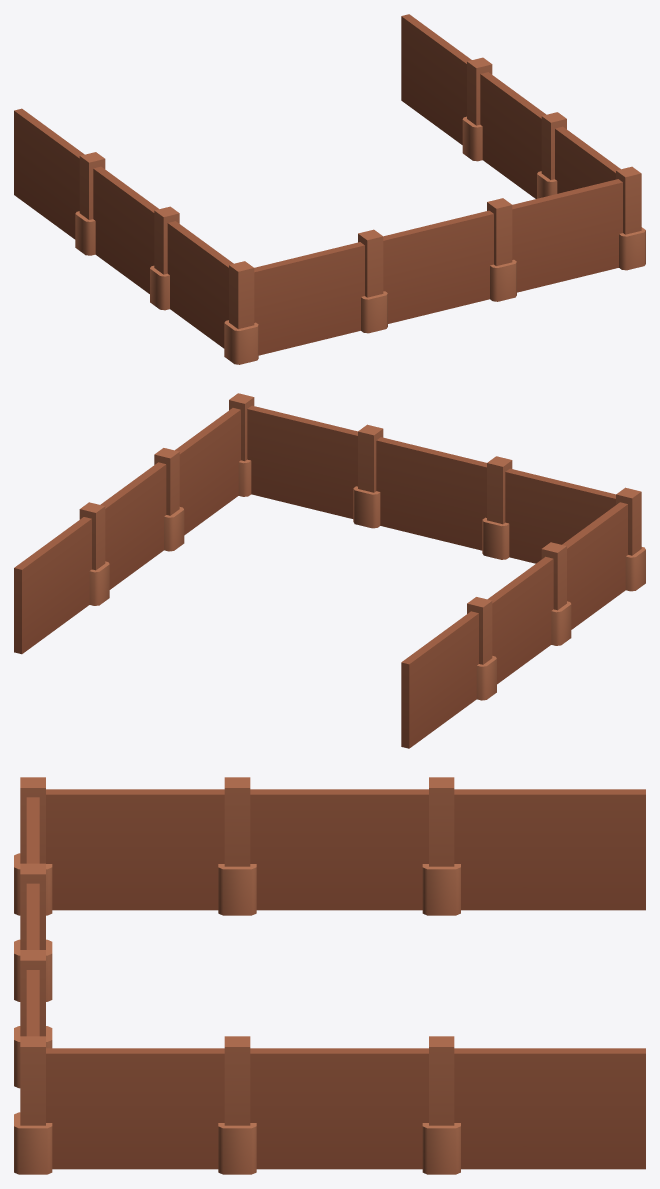
File: fence-3x3.glb
3 views of the same model, one above another, from view 1: azimuth 30°, elevation 25°; view 2: azimuth 150°, elevation 25°; view 3: azimuth 270°, elevation 25° (orthographic). The views are drawn at different scales.
Visible parts, largest first — view 1: fence-3x3; view 2: fence-3x3; view 3: fence-3x3.
Boxes of the visible parts, x1,y1,x2,y2 form: fence-3x3: [14, 14, 645, 364]; fence-3x3: [14, 393, 645, 748]; fence-3x3: [14, 777, 645, 1174].
Size of the model in its own units: 1.28 by 0.27 by 1.24.
